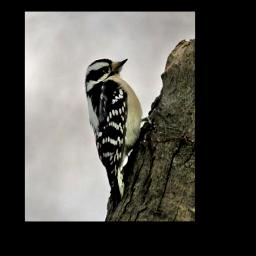Woodpecker: (83, 54, 162, 216)
